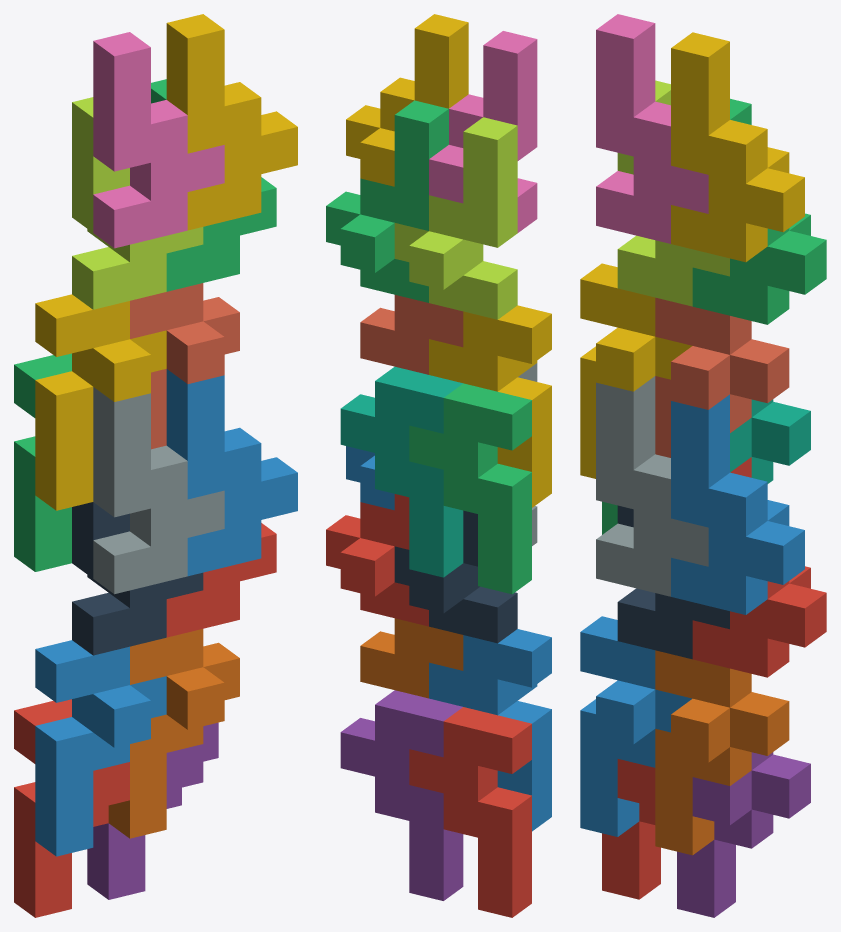
The model's file is tiling.obj.
The picture shows the model from 3 angles, left to right: view 1: azimuth 30°, elevation 25°; view 2: azimuth 150°, elevation 25°; view 3: azimuth 330°, elevation 25°; orthographic projection. The views are drawn at different scales.
Visible parts, largest first — view 1: copy_2_domain_4, copy_1_domain_2, copy_2_domain_2, copy_1_domain_4, copy_2_domain_8, copy_2_domain_6, copy_1_domain_6, copy_2_domain_3, copy_1_domain_1, copy_1_domain_8, copy_2_domain_1, copy_1_domain_3 (+3 smaller); view 2: copy_1_domain_3, copy_1_domain_1, copy_2_domain_3, copy_1_domain_7, copy_1_domain_5, copy_2_domain_7, copy_1_domain_4, copy_1_domain_2, copy_2_domain_4, copy_2_domain_8, copy_2_domain_5, copy_2_domain_1 (+3 smaller); view 3: copy_2_domain_8, copy_2_domain_6, copy_1_domain_6, copy_2_domain_4, copy_2_domain_2, copy_1_domain_2, copy_1_domain_8, copy_1_domain_5, copy_1_domain_4, copy_2_domain_7, copy_2_domain_5, copy_1_domain_1 (+3 smaller).
Part boxes in pixels (left/top/right/bottom): copy_2_domain_4: left=93, top=32, right=224, bottom=248; copy_1_domain_2: left=35, top=640, right=166, bottom=856; copy_2_domain_2: left=93, top=387, right=224, bottom=594; copy_1_domain_4: left=35, top=294, right=166, bottom=510; copy_2_domain_8: left=166, top=14, right=297, bottom=230; copy_2_domain_6: left=166, top=369, right=297, bottom=576; copy_1_domain_6: left=108, top=629, right=239, bottom=838; copy_2_domain_3: left=72, top=97, right=203, bottom=309; copy_1_domain_1: left=14, top=699, right=129, bottom=917; copy_1_domain_8: left=130, top=283, right=239, bottom=449; copy_2_domain_1: left=72, top=502, right=203, bottom=655; copy_1_domain_3: left=14, top=353, right=71, bottom=571; copy_1_domain_3: left=409, top=383, right=531, bottom=594; copy_1_domain_1: left=409, top=707, right=531, bottom=917; copy_2_domain_3: left=394, top=117, right=517, bottom=319; copy_1_domain_7: left=340, top=366, right=463, bottom=577; copy_1_domain_5: left=340, top=690, right=463, bottom=900; copy_2_domain_7: left=326, top=100, right=448, bottom=302; copy_1_domain_4: left=429, top=305, right=551, bottom=507; copy_1_domain_2: left=429, top=629, right=551, bottom=831; copy_2_domain_4: left=429, top=31, right=537, bottom=232; copy_2_domain_8: left=346, top=14, right=468, bottom=186; copy_2_domain_5: left=326, top=494, right=428, bottom=626; copy_2_domain_1: left=394, top=510, right=517, bottom=643; copy_2_domain_8: left=671, top=32, right=804, bottom=262; copy_2_domain_6: left=671, top=394, right=804, bottom=614; copy_1_domain_6: left=655, top=650, right=789, bottom=855; copy_2_domain_4: left=596, top=14, right=708, bottom=243; copy_2_domain_2: left=596, top=376, right=708, bottom=596; copy_1_domain_2: left=580, top=616, right=691, bottom=836; copy_1_domain_8: left=655, top=297, right=789, bottom=457; copy_1_domain_5: left=677, top=752, right=810, bottom=917; copy_1_domain_4: left=580, top=263, right=692, bottom=478; copy_2_domain_7: left=692, top=98, right=826, bottom=324; copy_2_domain_5: left=692, top=457, right=826, bottom=677; copy_1_domain_1: left=602, top=759, right=660, bottom=899.
Bounding box in the file's own units: 6 × 23 × 3.
